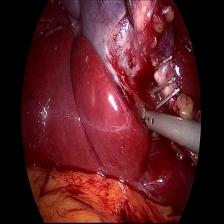Irrigator: (137, 106, 171, 136)
